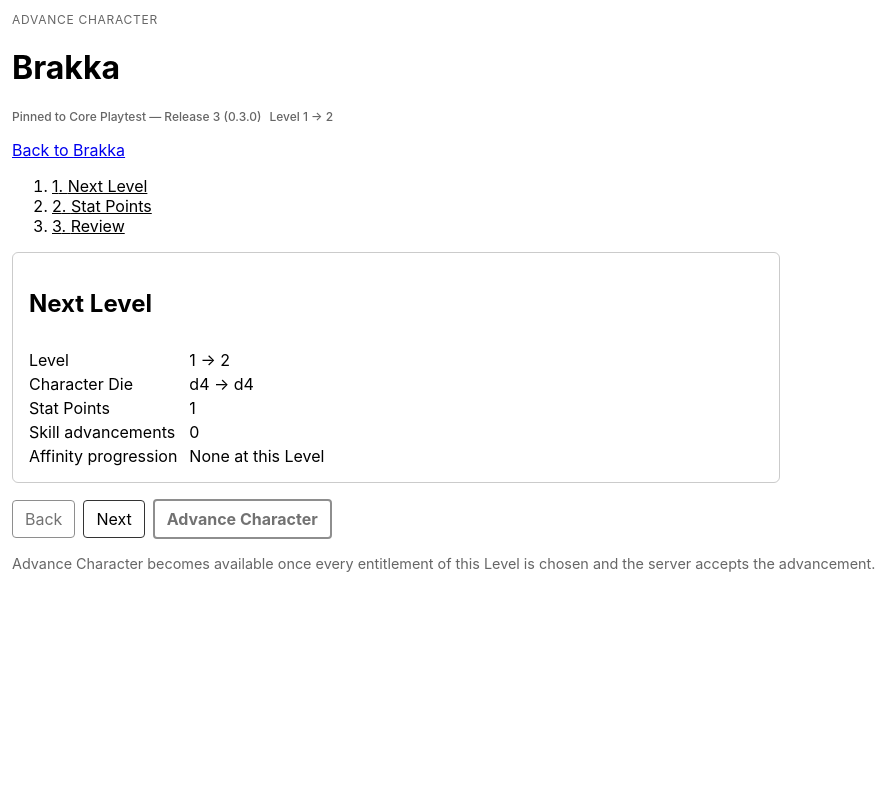
M6-WO4 Advancement wizard (§69–§77) › the points meter shows the SERVER's remaining count; Add uses the server's maximum; choices are previewed
expect the element with test id "next-level-summary" is shown: met, box [29,350,324,466]
Click the button "Next": (114, 519) [83,500,145,538]
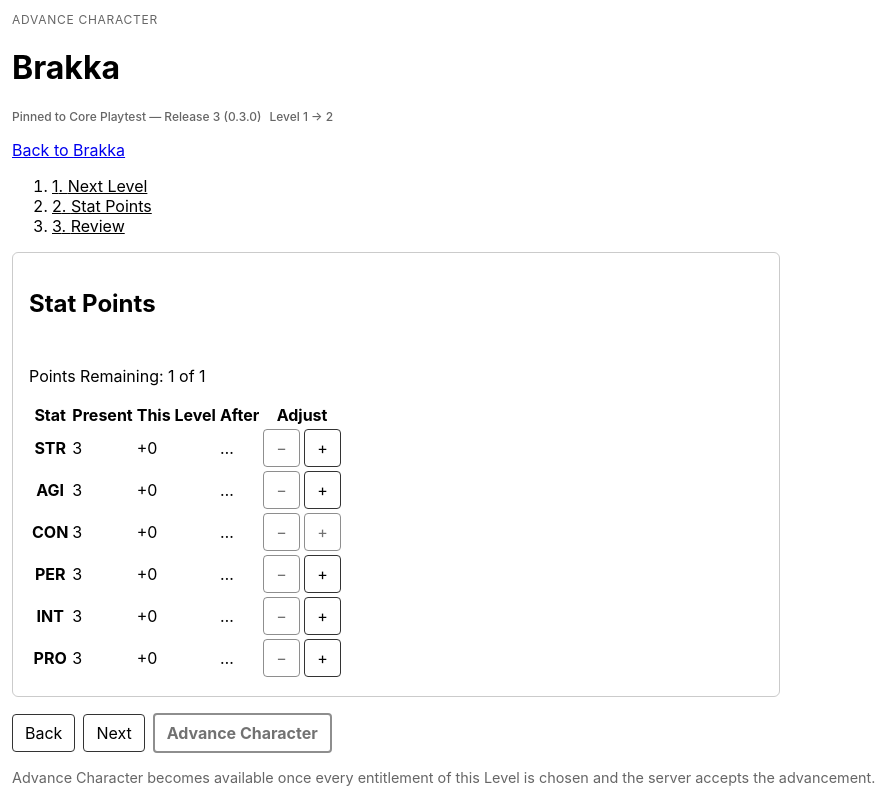
expect the message with test id "advance-points" reads "Points Remaining: 1 of 1": met, box [29,366,206,386]
expect the button named "Add a point to CON" is disabled: met, box [304,513,341,551]
Click the button named "Add a point to PER": (323, 574) [304,555,341,593]
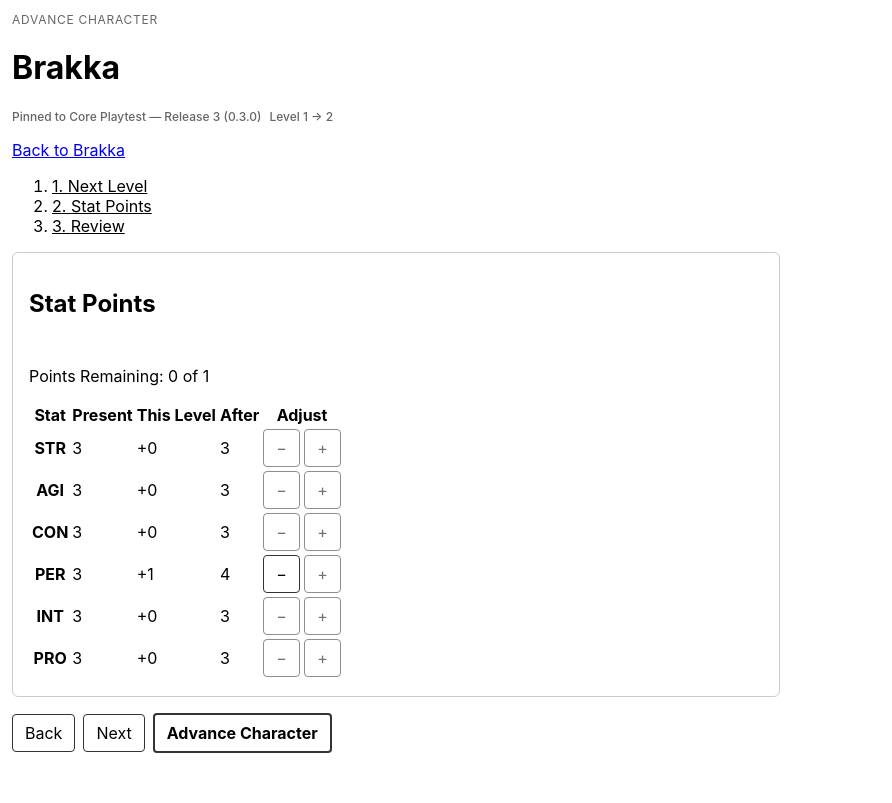
expect the button named "Add a point to STR" is disabled: met, box [304,429,341,467]
expect the message with test id "advance-points" reads "Points Remaining: 0 of 1": met, box [29,366,209,386]
expect the cell "4" is shown: met, box [219,554,260,594]
